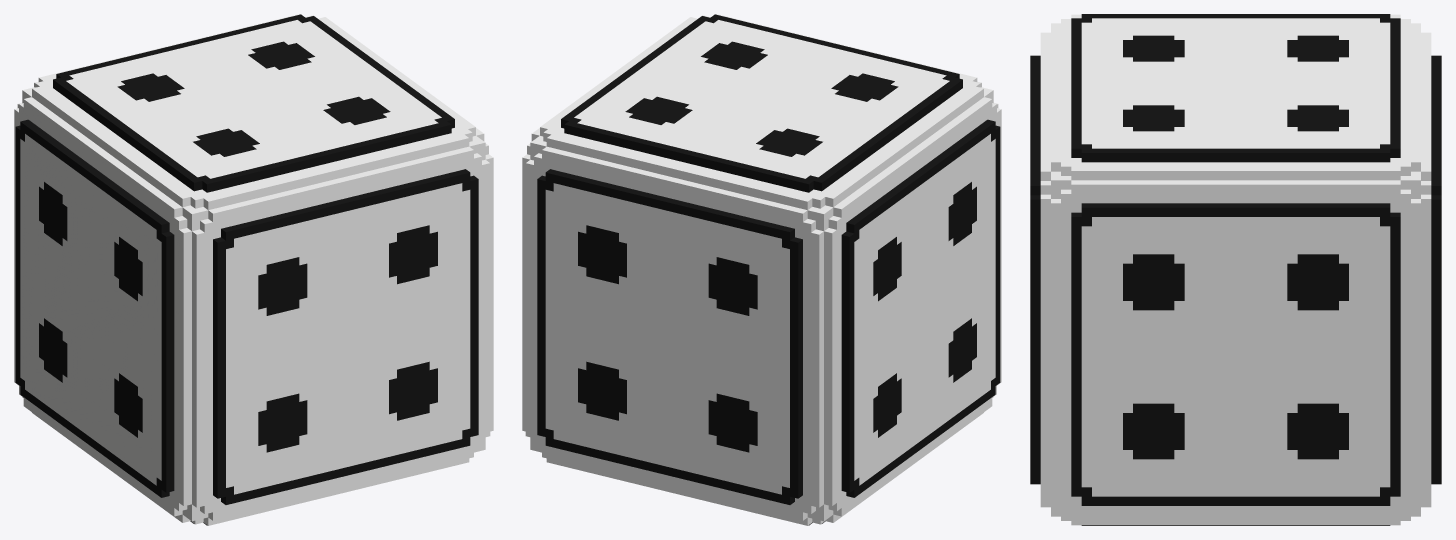
File: Dicemob4.obj
3 renders of one model, left to right at view 1: azimuth 30°, elevation 25°; view 2: azimuth 150°, elevation 25°; view 3: azimuth 270°, elevation 25°, orthographic. The views are drawn at different scales.
Size of the model in its own units: 4 by 4 by 4.
